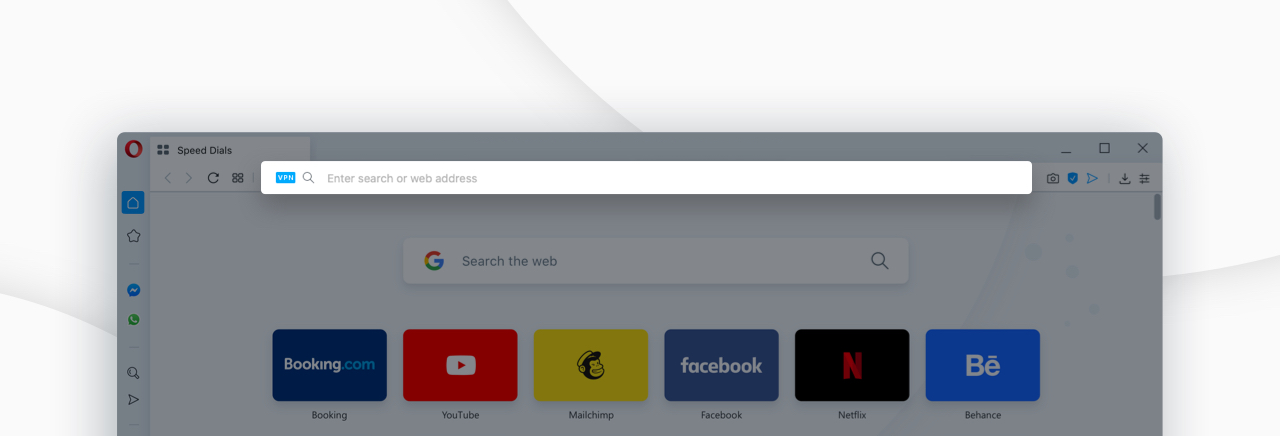search_box: (261, 161, 1034, 195)
